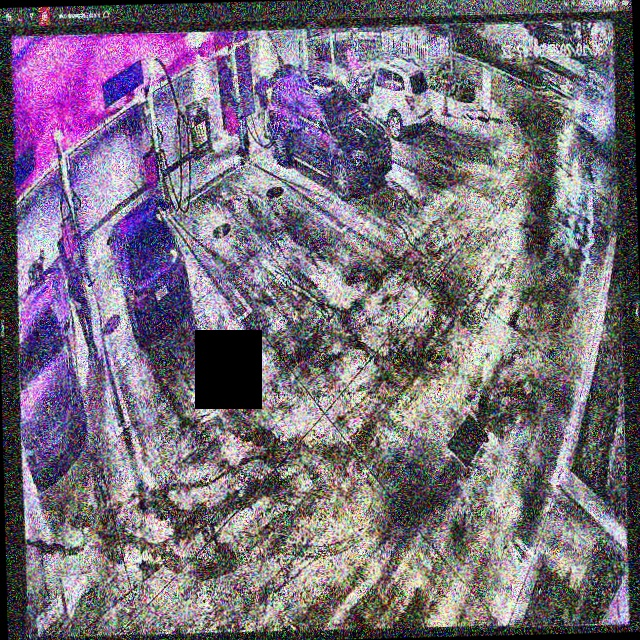Car: (265, 61, 391, 195), (106, 197, 189, 343)
